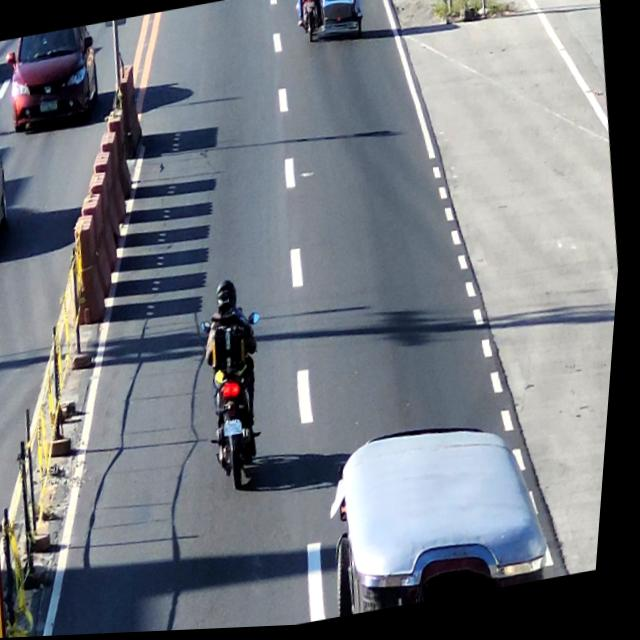Jeep: (325, 409, 568, 621)
License-Plate: (228, 419, 253, 441), (40, 99, 61, 113)
Motorcycle: (184, 275, 292, 504)
Tricycle: (291, 0, 369, 54)
